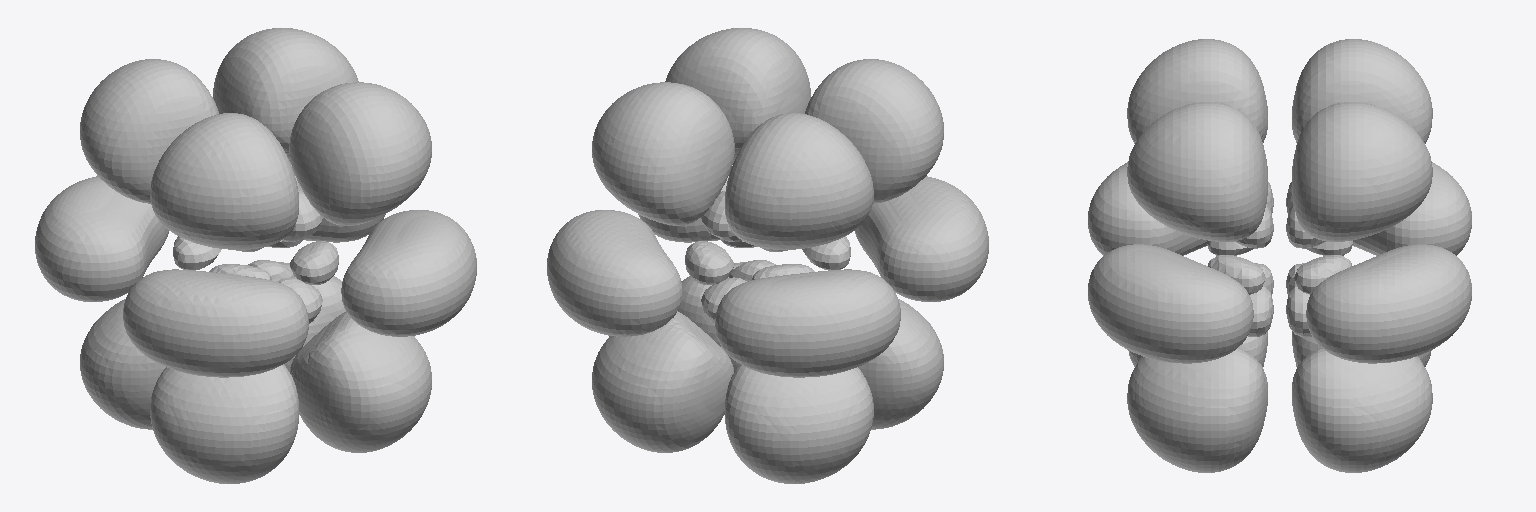
The model's file is orb_n=6_ l=4 _m=-2.obj.
3 views of the same model, side by side, from view 1: azimuth 30°, elevation 25°; view 2: azimuth 150°, elevation 25°; view 3: azimuth 270°, elevation 25° (orthographic).
Parts seen in each view (by area): view 1: orb_n=6__l=4__m=-2; view 2: orb_n=6__l=4__m=-2; view 3: orb_n=6__l=4__m=-2.
Boxes of the visible parts, x1=… form: orb_n=6__l=4__m=-2: x1=35, y1=28, x2=476, y2=483; orb_n=6__l=4__m=-2: x1=547, y1=28, x2=988, y2=483; orb_n=6__l=4__m=-2: x1=1088, y1=39, x2=1471, y2=472.
Bounding box in the file's own units: 121 × 124 × 121.